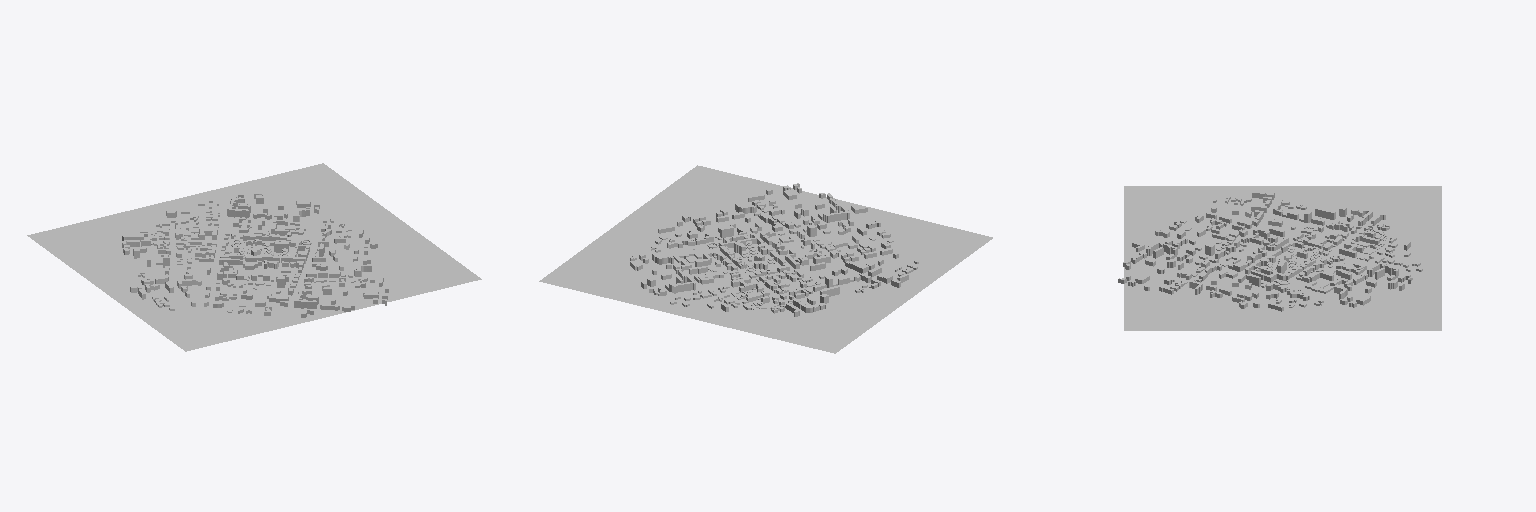
File: cityOne.obj
3 views of the same model, side by side, from view 1: azimuth 30°, elevation 25°; view 2: azimuth 150°, elevation 25°; view 3: azimuth 270°, elevation 25° (orthographic).
Parts seen in each view (by area): view 1: Plane001, Mesh187, Mesh438; view 2: Plane001, Mesh438, Mesh187, Mesh437; view 3: Plane001, Mesh438, Mesh187, Mesh437.
Boxes of the visible parts, <box> form: Plane001: <box>27,163,481,351</box>; Mesh187: <box>181,265,388,317</box>; Mesh438: <box>227,195,377,315</box>; Plane001: <box>539,165,992,353</box>; Mesh438: <box>630,202,880,294</box>; Mesh187: <box>748,183,898,269</box>; Mesh437: <box>651,238,753,309</box>; Plane001: <box>1124,186,1441,330</box>; Mesh438: <box>1155,229,1410,311</box>; Mesh187: <box>1118,207,1258,294</box>; Mesh437: <box>1289,236,1422,307</box>.
Size of the model in its own units: 2745 by 116 by 2590.